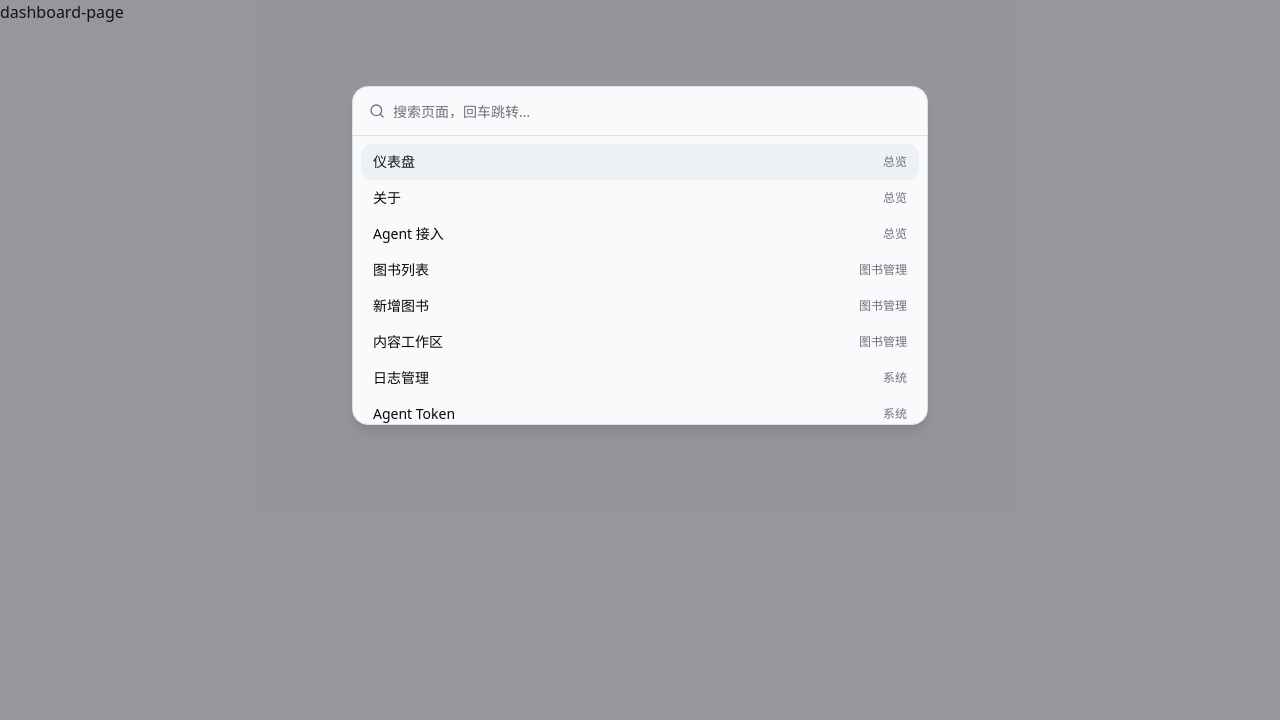
Scenario: CommandPalette › 按标题过滤：仅保留匹配项
The image size is (1280, 720).
Type "日志" into the dropdown labelled "搜索页面" at (652, 111), box x1=393 y1=87 x2=911 y2=135
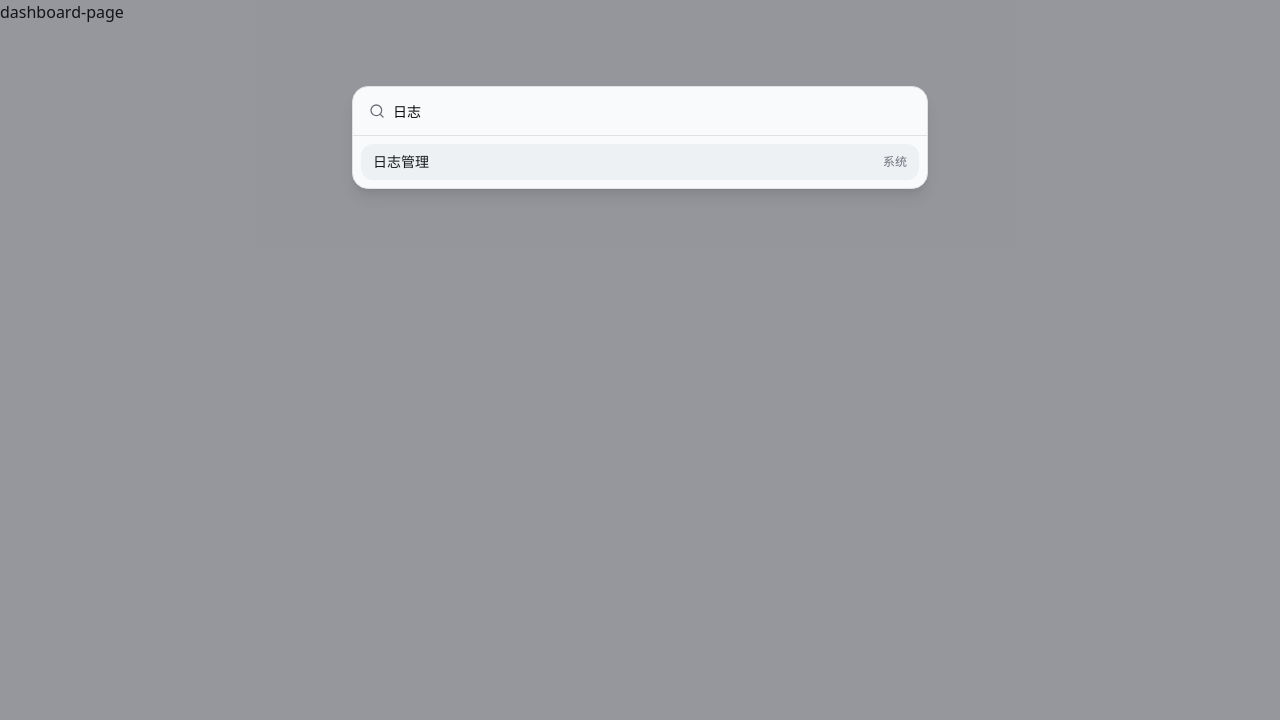
Expected: the option shows "日志管理", x1=361 y1=144 x2=919 y2=180
Expected: the number of options is 1, x1=361 y1=144 x2=919 y2=180
